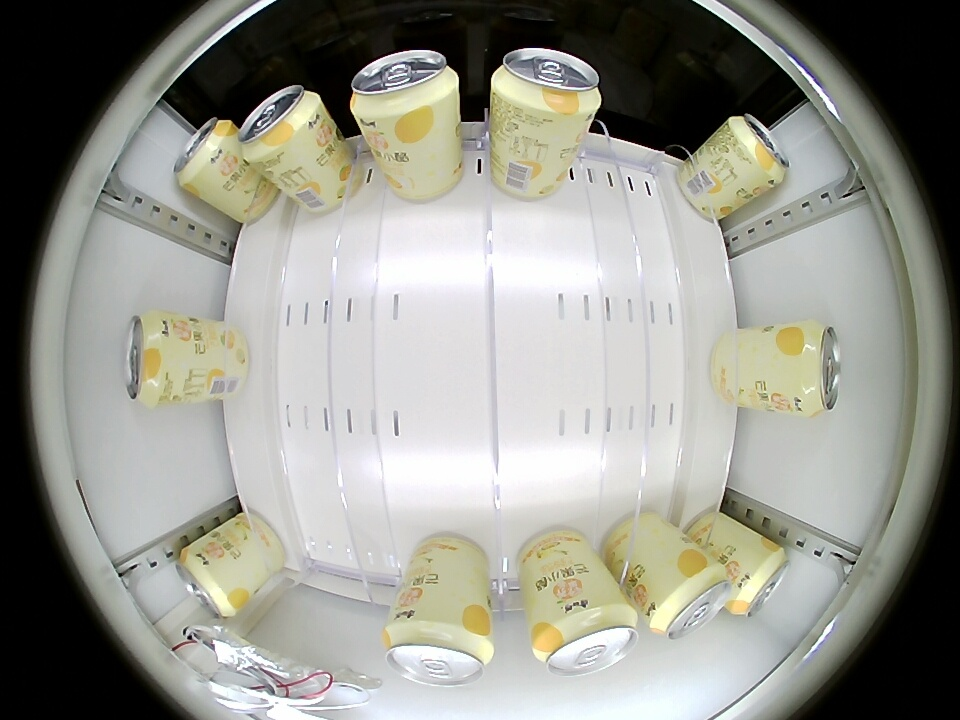mangguoxiaolao: (350, 50, 460, 129), (492, 47, 603, 124), (531, 599, 640, 677), (384, 613, 493, 687), (238, 85, 323, 163), (647, 561, 730, 640), (783, 322, 841, 416), (125, 312, 178, 408), (176, 542, 242, 619), (727, 113, 790, 189), (174, 116, 235, 192), (730, 542, 791, 617)
